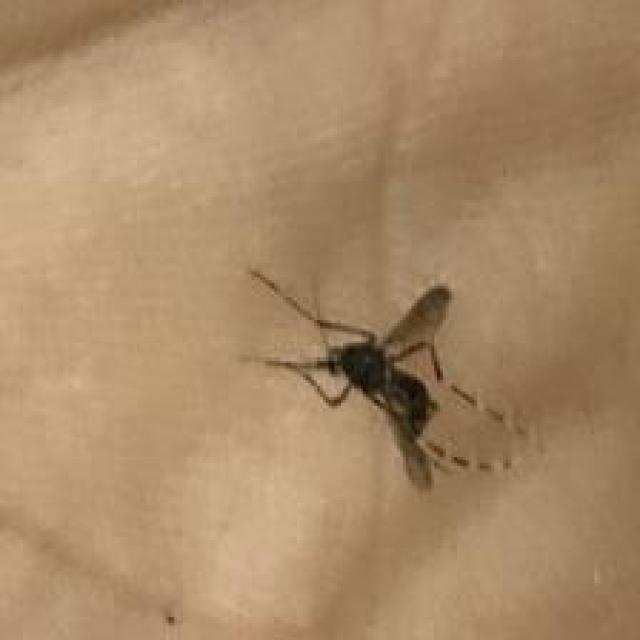Aedes albopictus: (244, 266, 522, 494)
